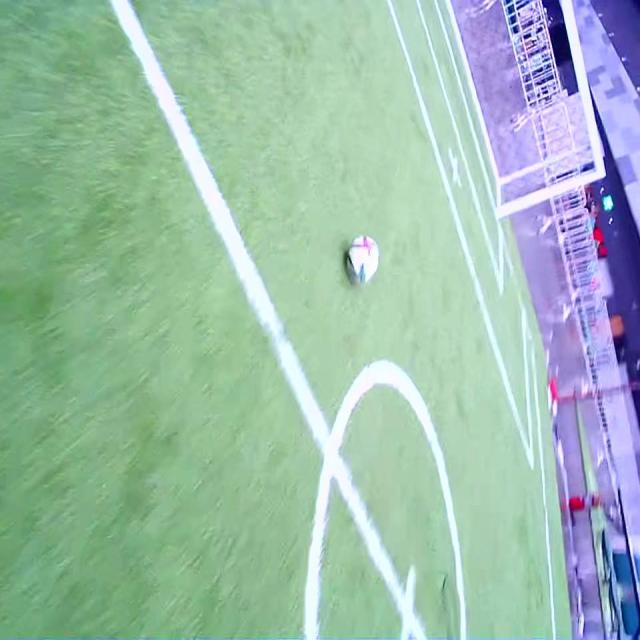ball: (346, 234, 380, 284)
